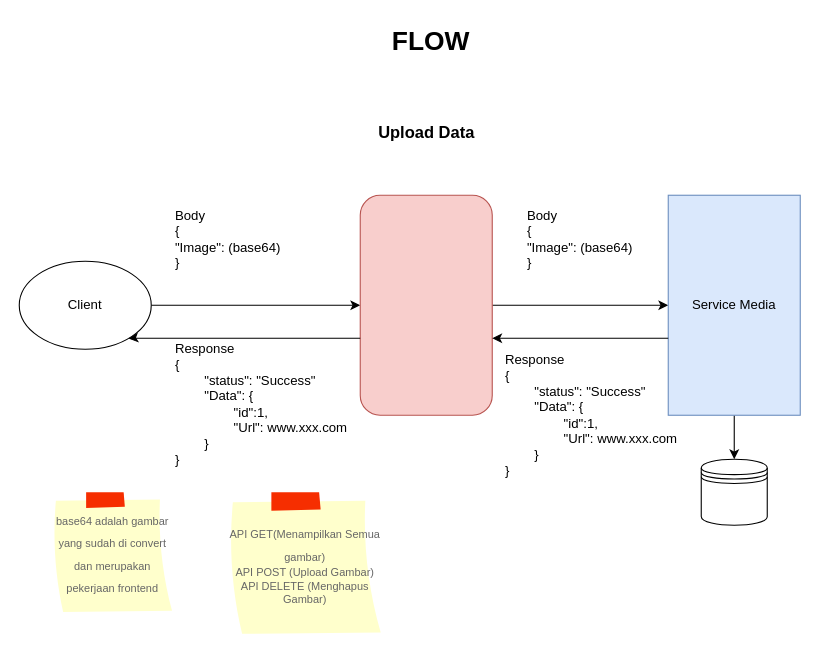
Some shapes in this 820 by 655 pixel diagram are drawn without their labels. The box of each missing label's shape, as (x1, y1, x2, y2) in pixels:
API GATEWAY: (359, 194, 492, 415)
Database: (700, 458, 767, 525)
